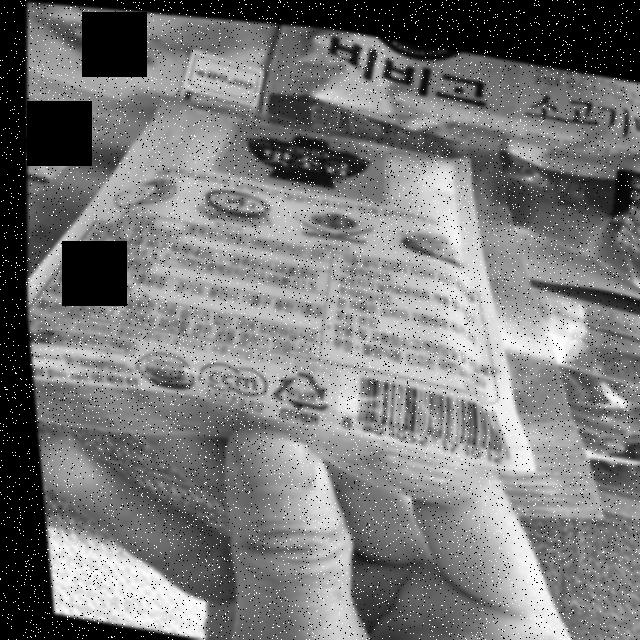Vinyl: (263, 360, 325, 408)
